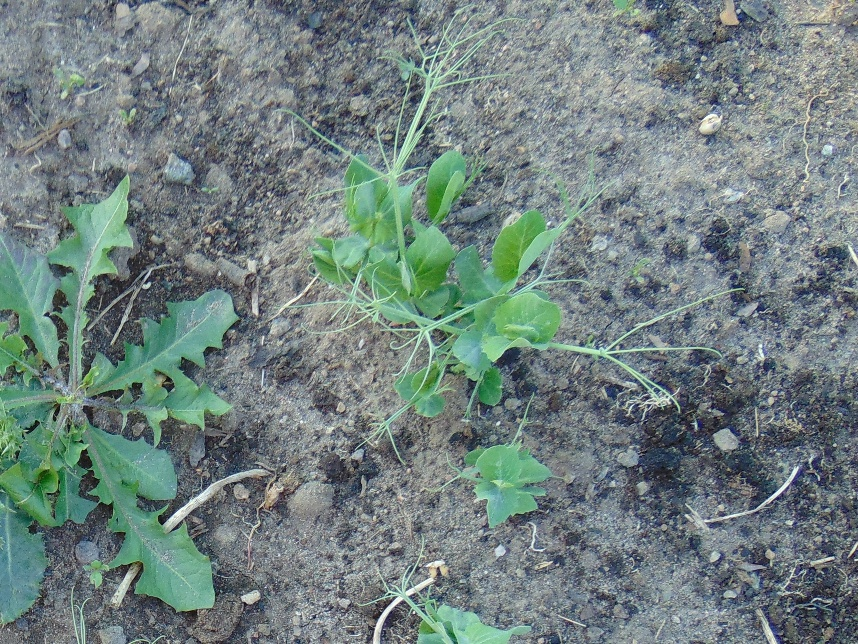crop: (306, 28, 644, 440), (374, 567, 536, 644), (439, 439, 564, 528)
weed: (1, 171, 237, 616)
